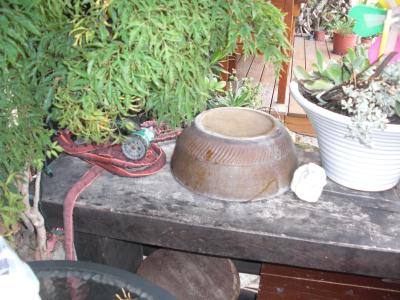bottle: (121, 127, 156, 163)
bowl: (169, 105, 303, 204)
